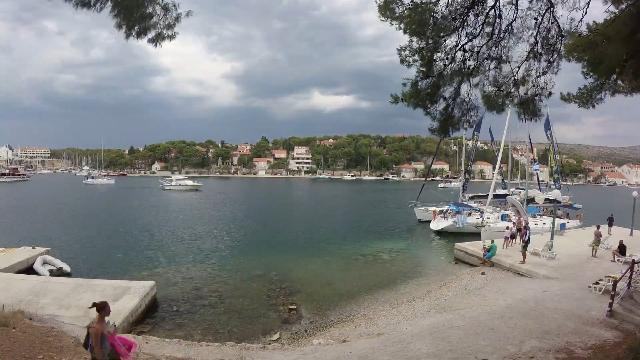Freighter: (0, 160, 36, 190)
Sailboat: (79, 167, 117, 189)
ferry: (152, 169, 206, 195)
